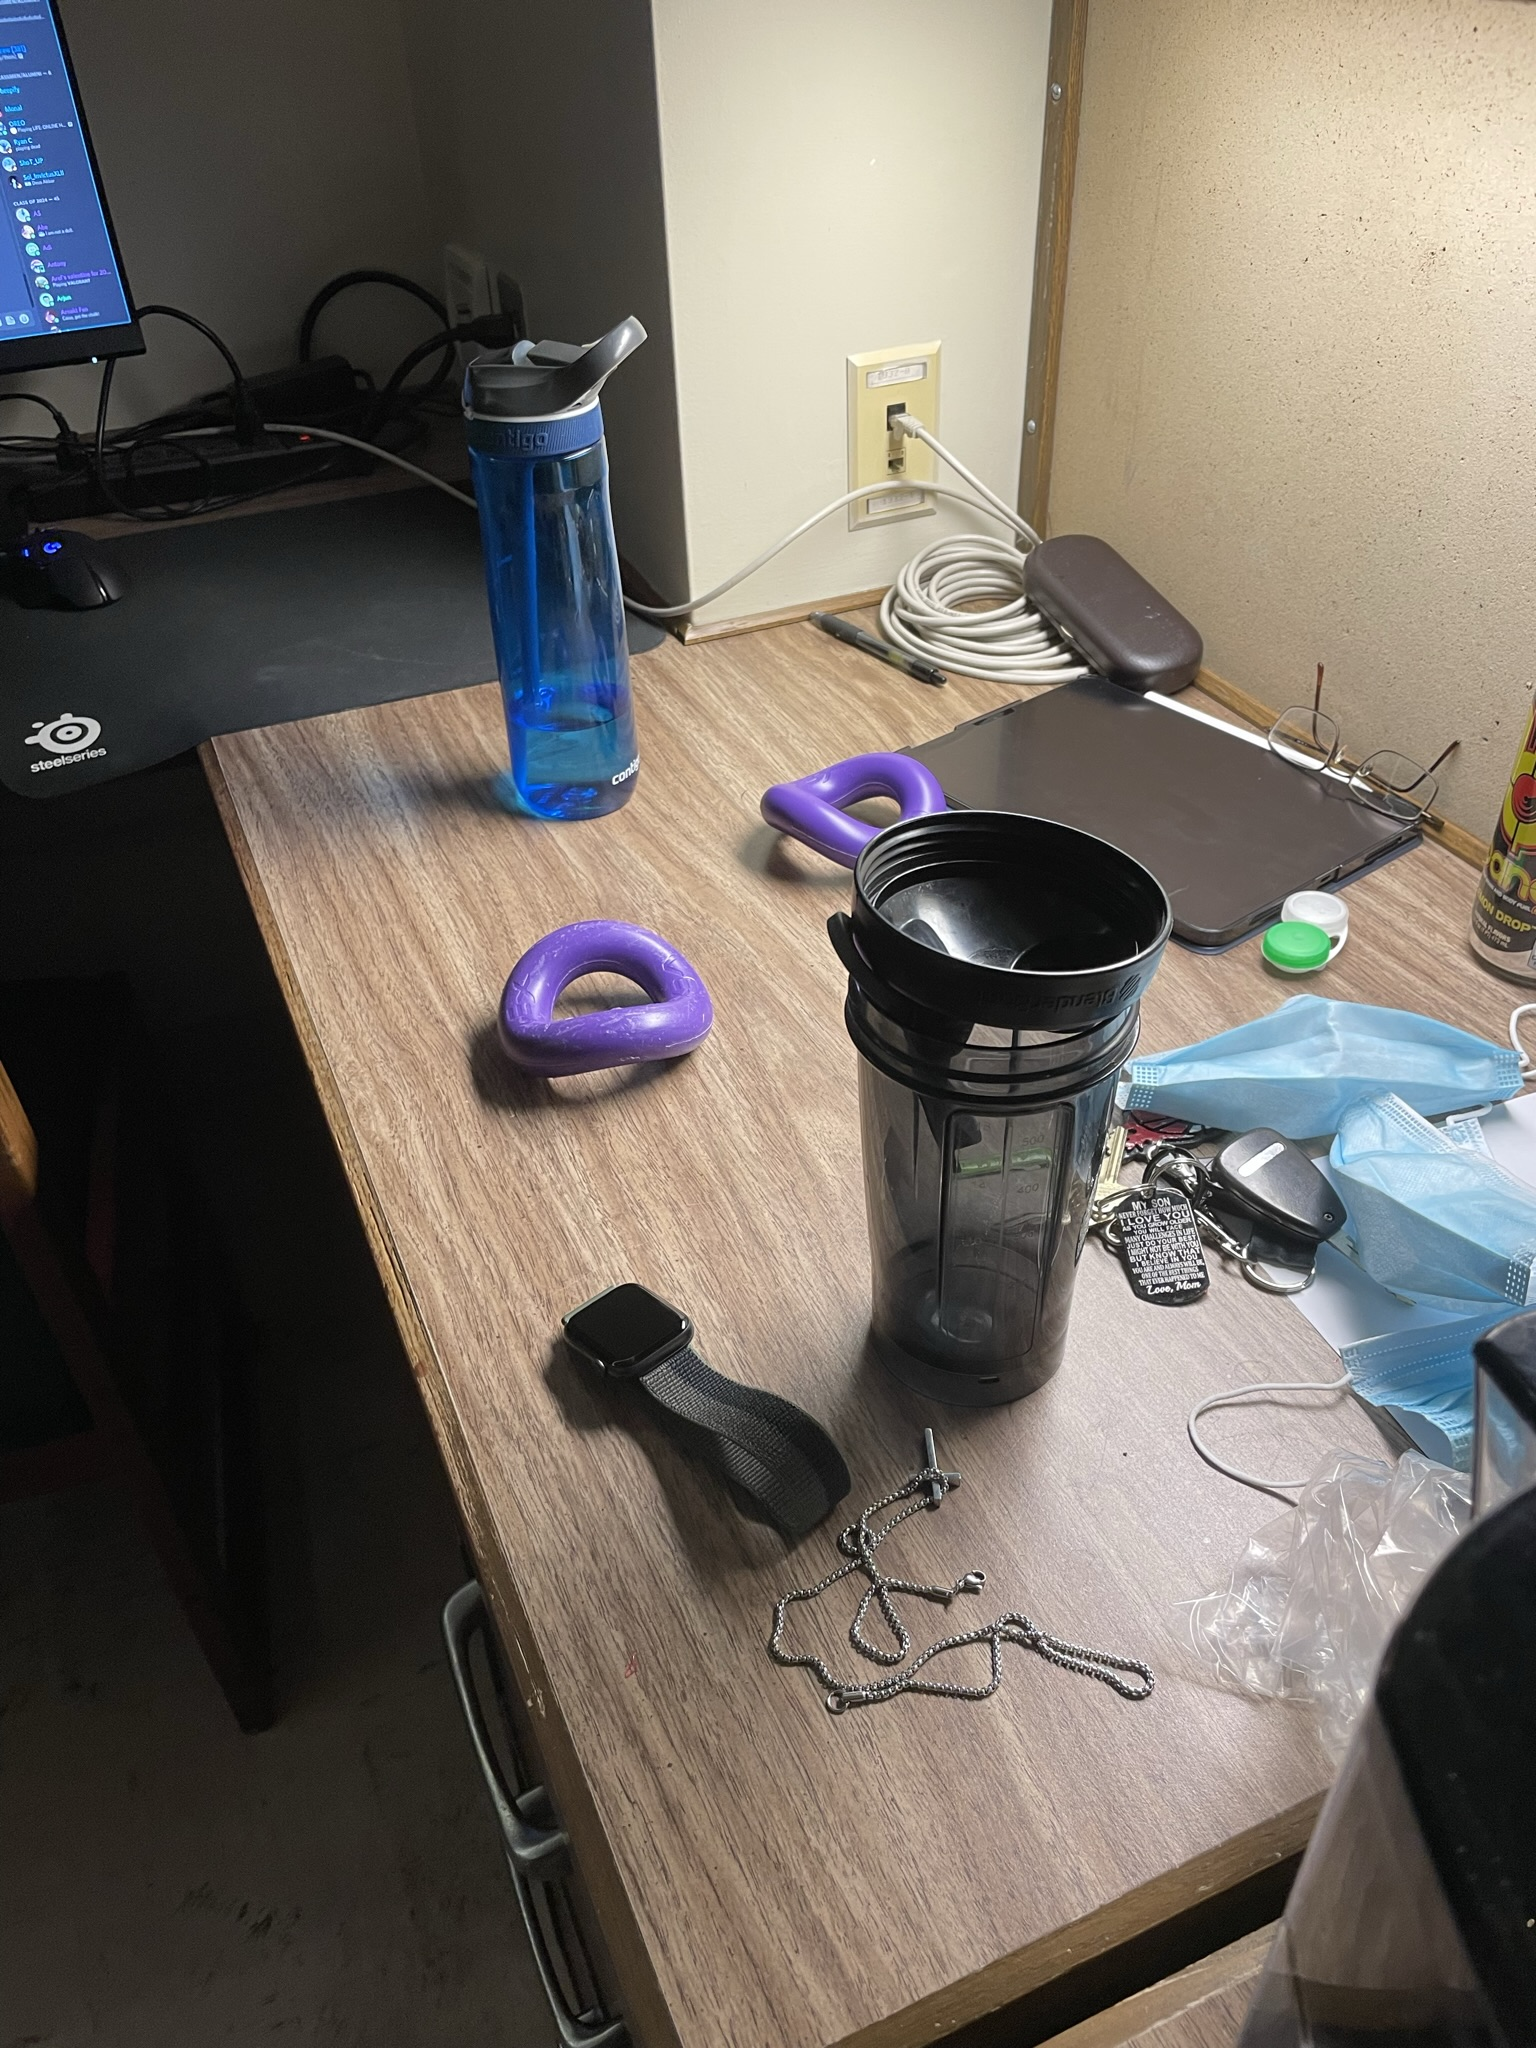ring: (492, 916, 712, 1077), (753, 747, 949, 876)
